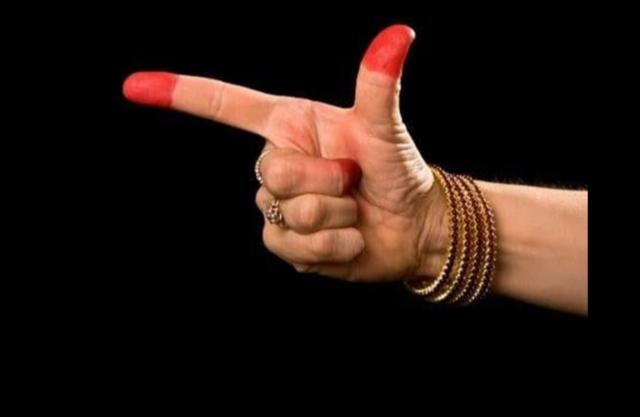chandrakala: (122, 25, 587, 316)
